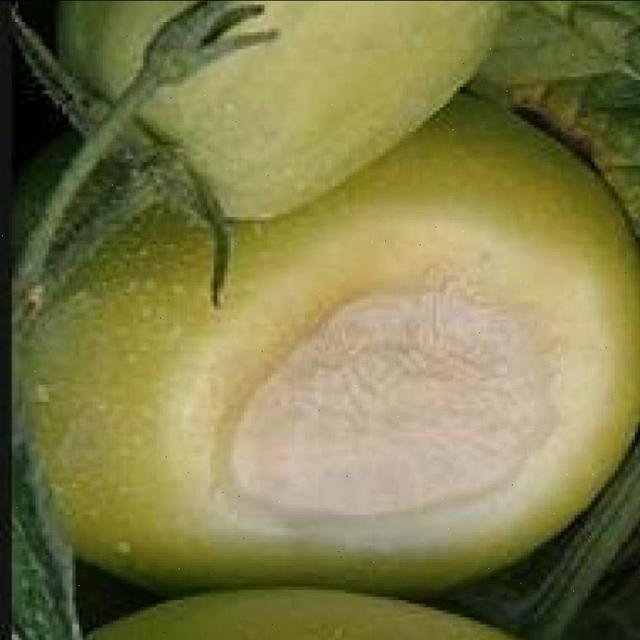Sunscald Fruit: (134, 170, 402, 351)
